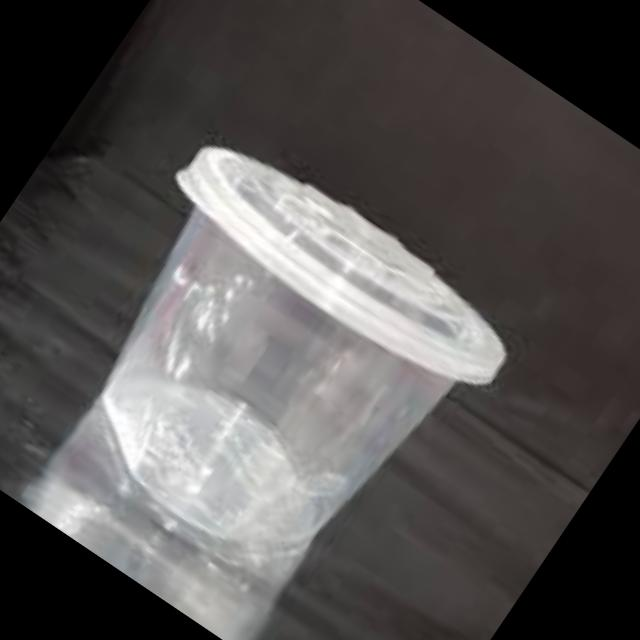GelasPlastik: (7, 112, 535, 638)
